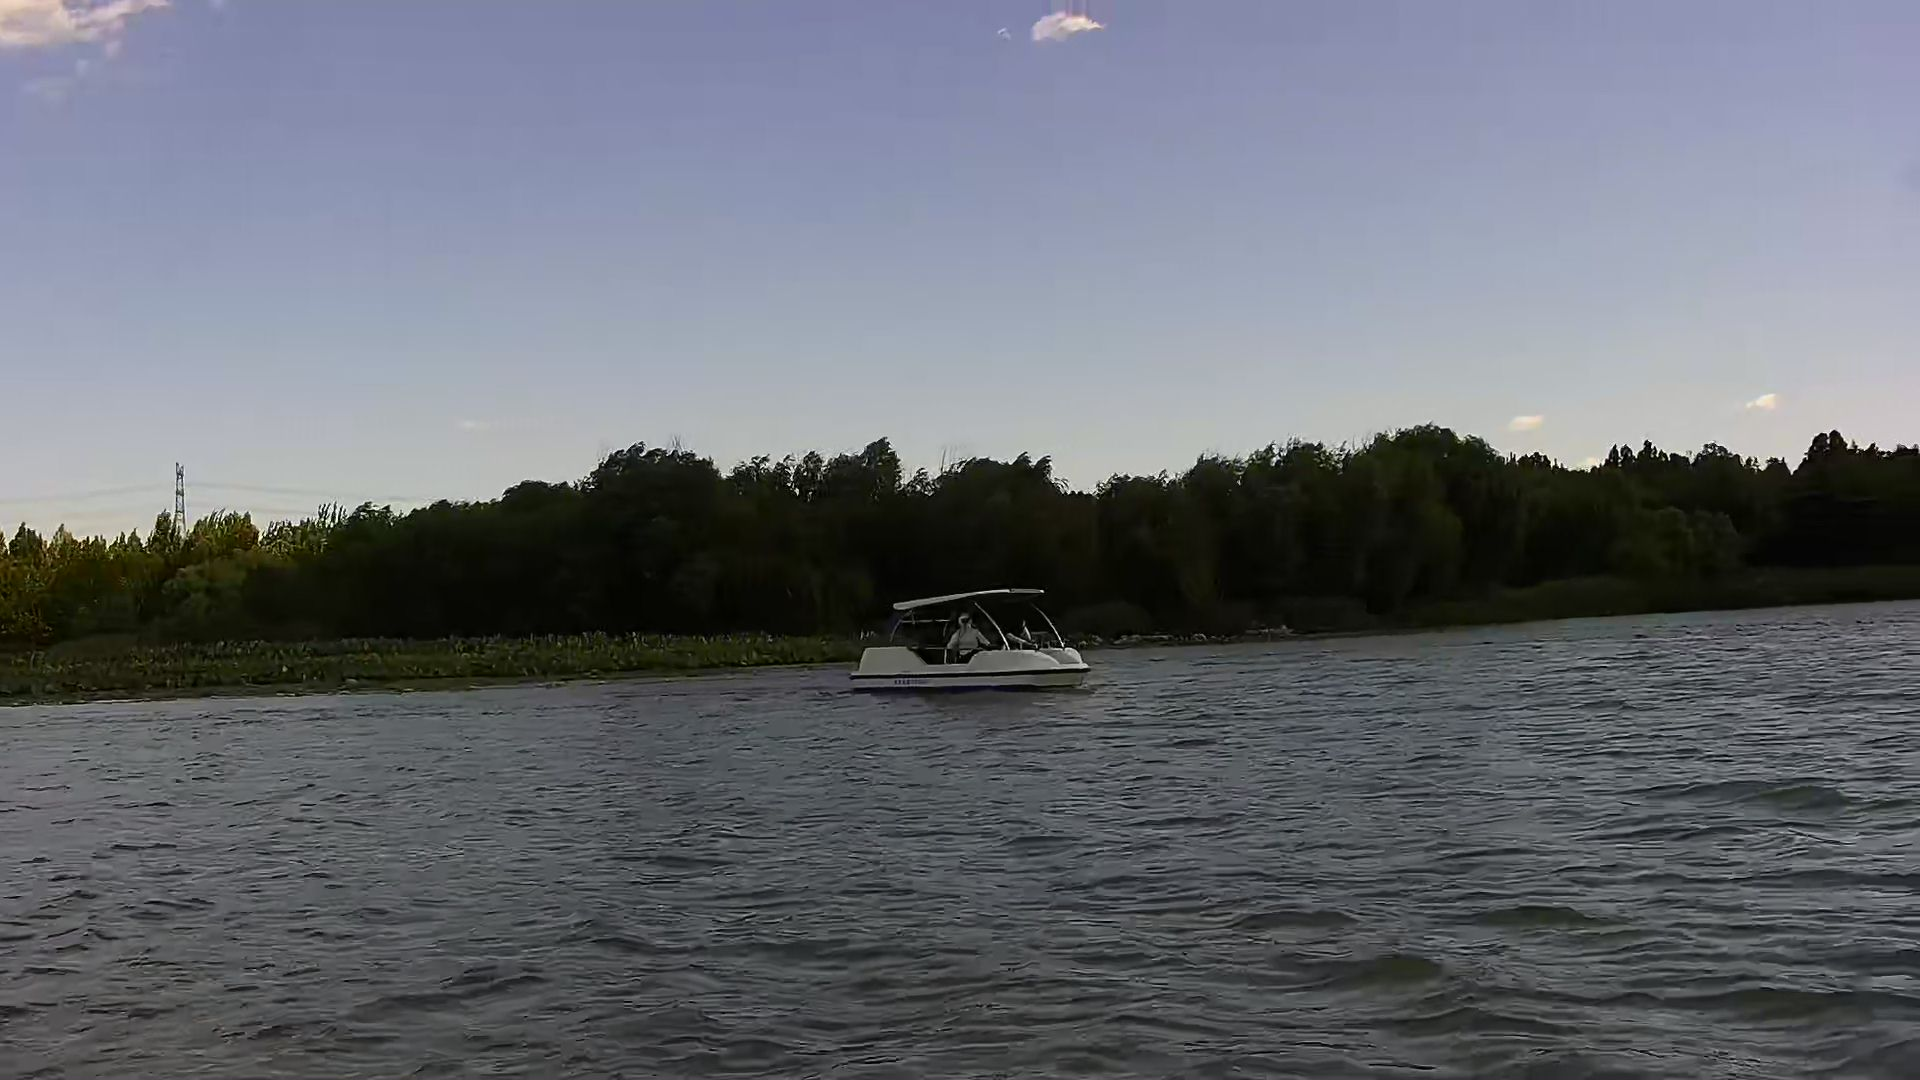boat: (851, 579, 1099, 696)
person: (943, 611, 993, 665)
